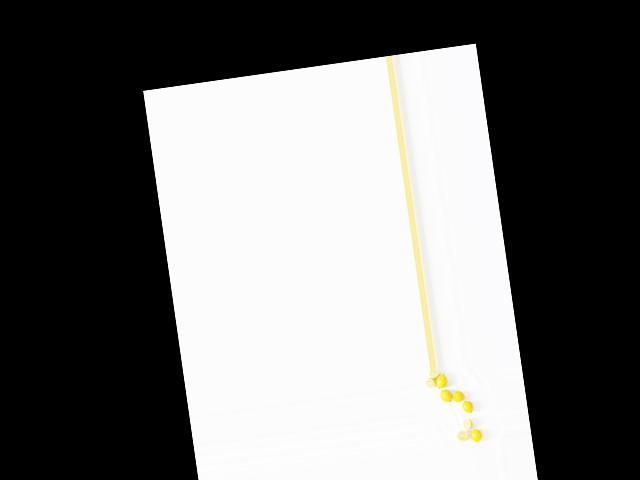lemon: (434, 372, 451, 393)
